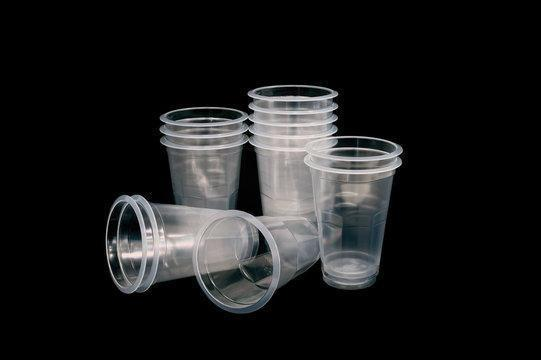cup-disposable: (104, 190, 260, 297), (303, 133, 404, 292), (192, 211, 320, 316), (247, 81, 341, 223), (157, 102, 249, 218)
